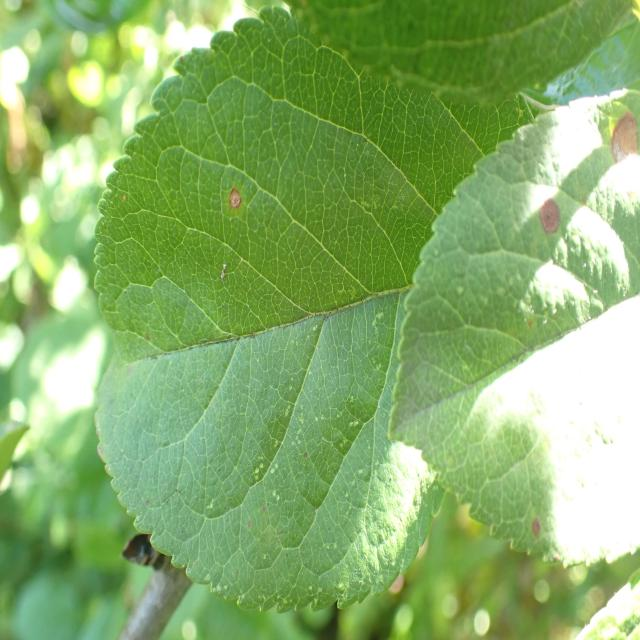Black Rot: (598, 94, 640, 188), (533, 179, 571, 253), (204, 177, 255, 230), (527, 510, 552, 558)
